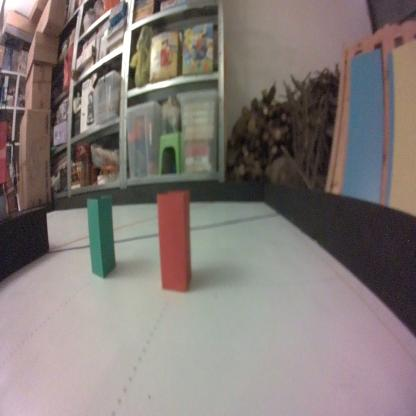green: (86, 192, 117, 281)
red: (156, 187, 192, 291)
